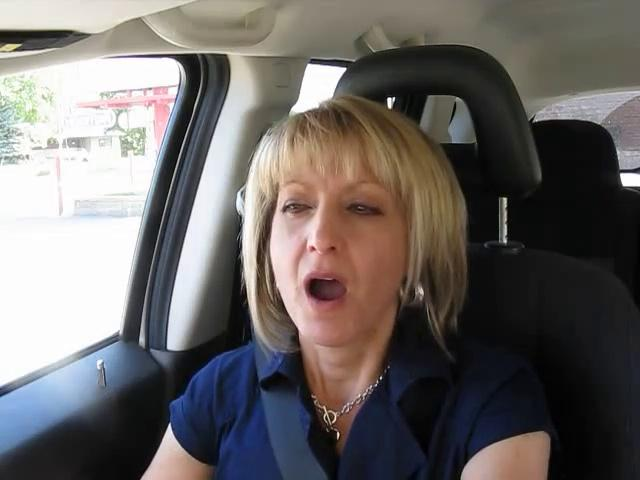close_eyeR: (331, 191, 398, 228)
open_eyeL: (272, 190, 324, 226)
yawn: (289, 268, 360, 313)
